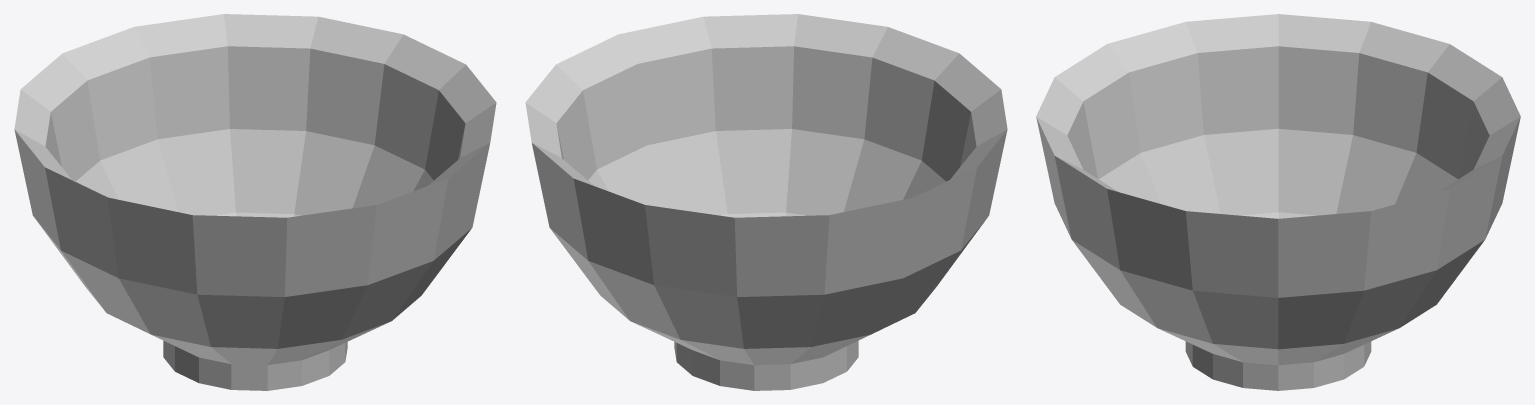
The model's file is waterbowl_textured.fbx.
3 renders of one model, left to right at view 1: azimuth 30°, elevation 25°; view 2: azimuth 150°, elevation 25°; view 3: azimuth 270°, elevation 25°, orthographic.
Visible parts, largest first — view 1: Sphere; view 2: Sphere; view 3: Sphere.
Boxes of the visible parts, bbox=[...] form: Sphere: bbox=[14, 14, 496, 390]; Sphere: bbox=[525, 14, 1007, 390]; Sphere: bbox=[1036, 14, 1520, 390].
Bounding box in the file's own units: 28 × 15 × 28.
